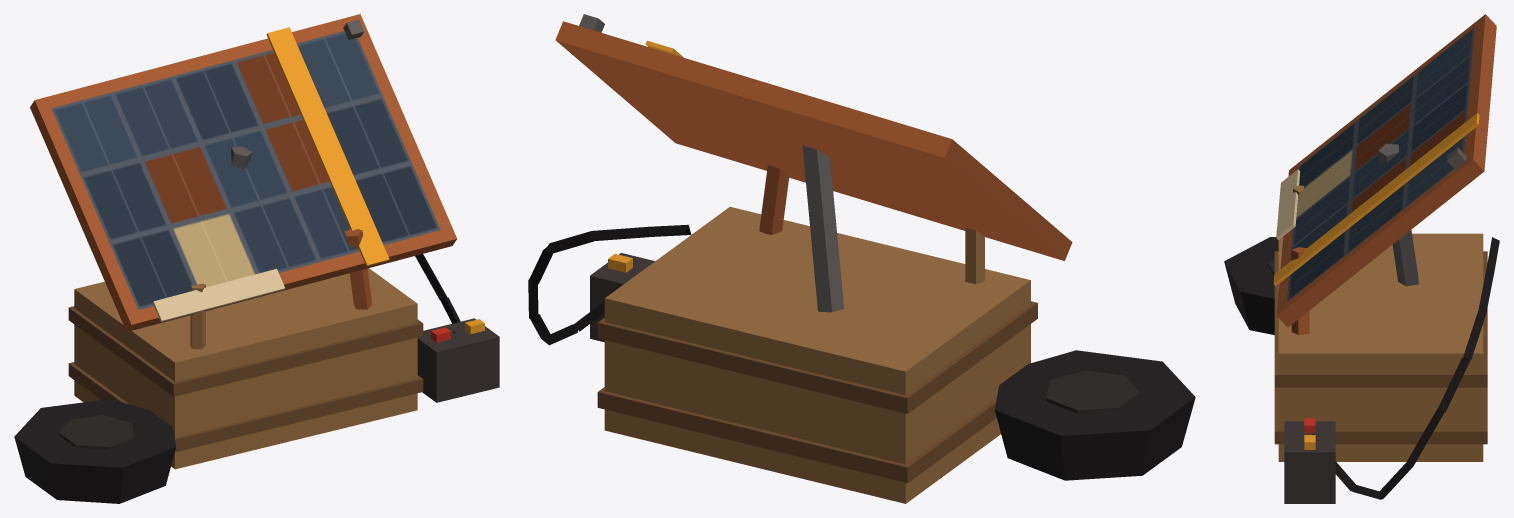
File: solar-T1-zaplata.glb
The picture shows the model from 3 angles, left to right: view 1: azimuth 30°, elevation 25°; view 2: azimuth 150°, elevation 25°; view 3: azimuth 270°, elevation 25°; orthographic projection. The views are drawn at different scales.
Visible parts, largest first — view 1: solar-T1-zaplata; view 2: solar-T1-zaplata; view 3: solar-T1-zaplata.
Boxes of the visible parts, x1,y1,x2,y2 form: solar-T1-zaplata: (14,14,499,503); solar-T1-zaplata: (528,14,1195,503); solar-T1-zaplata: (1224,14,1499,503).
Size of the model in its own units: 3.9 by 2.52 by 1.94.
12 materials, 1 textured.
